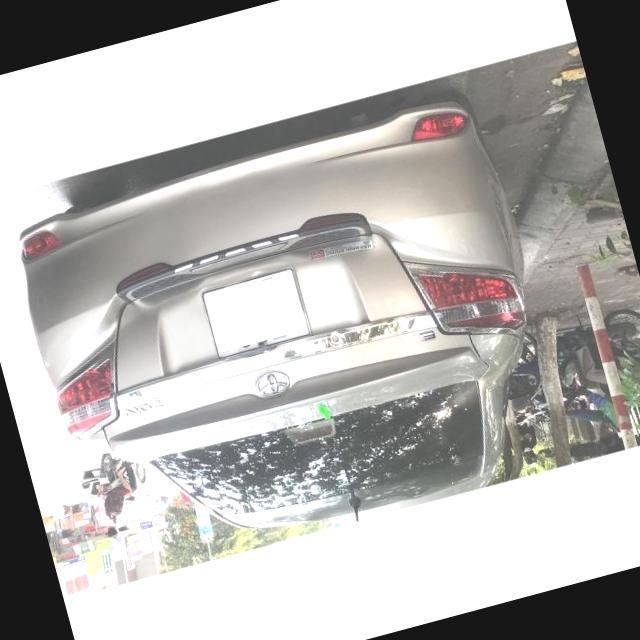ToyotaVios: (0, 84, 581, 592)
